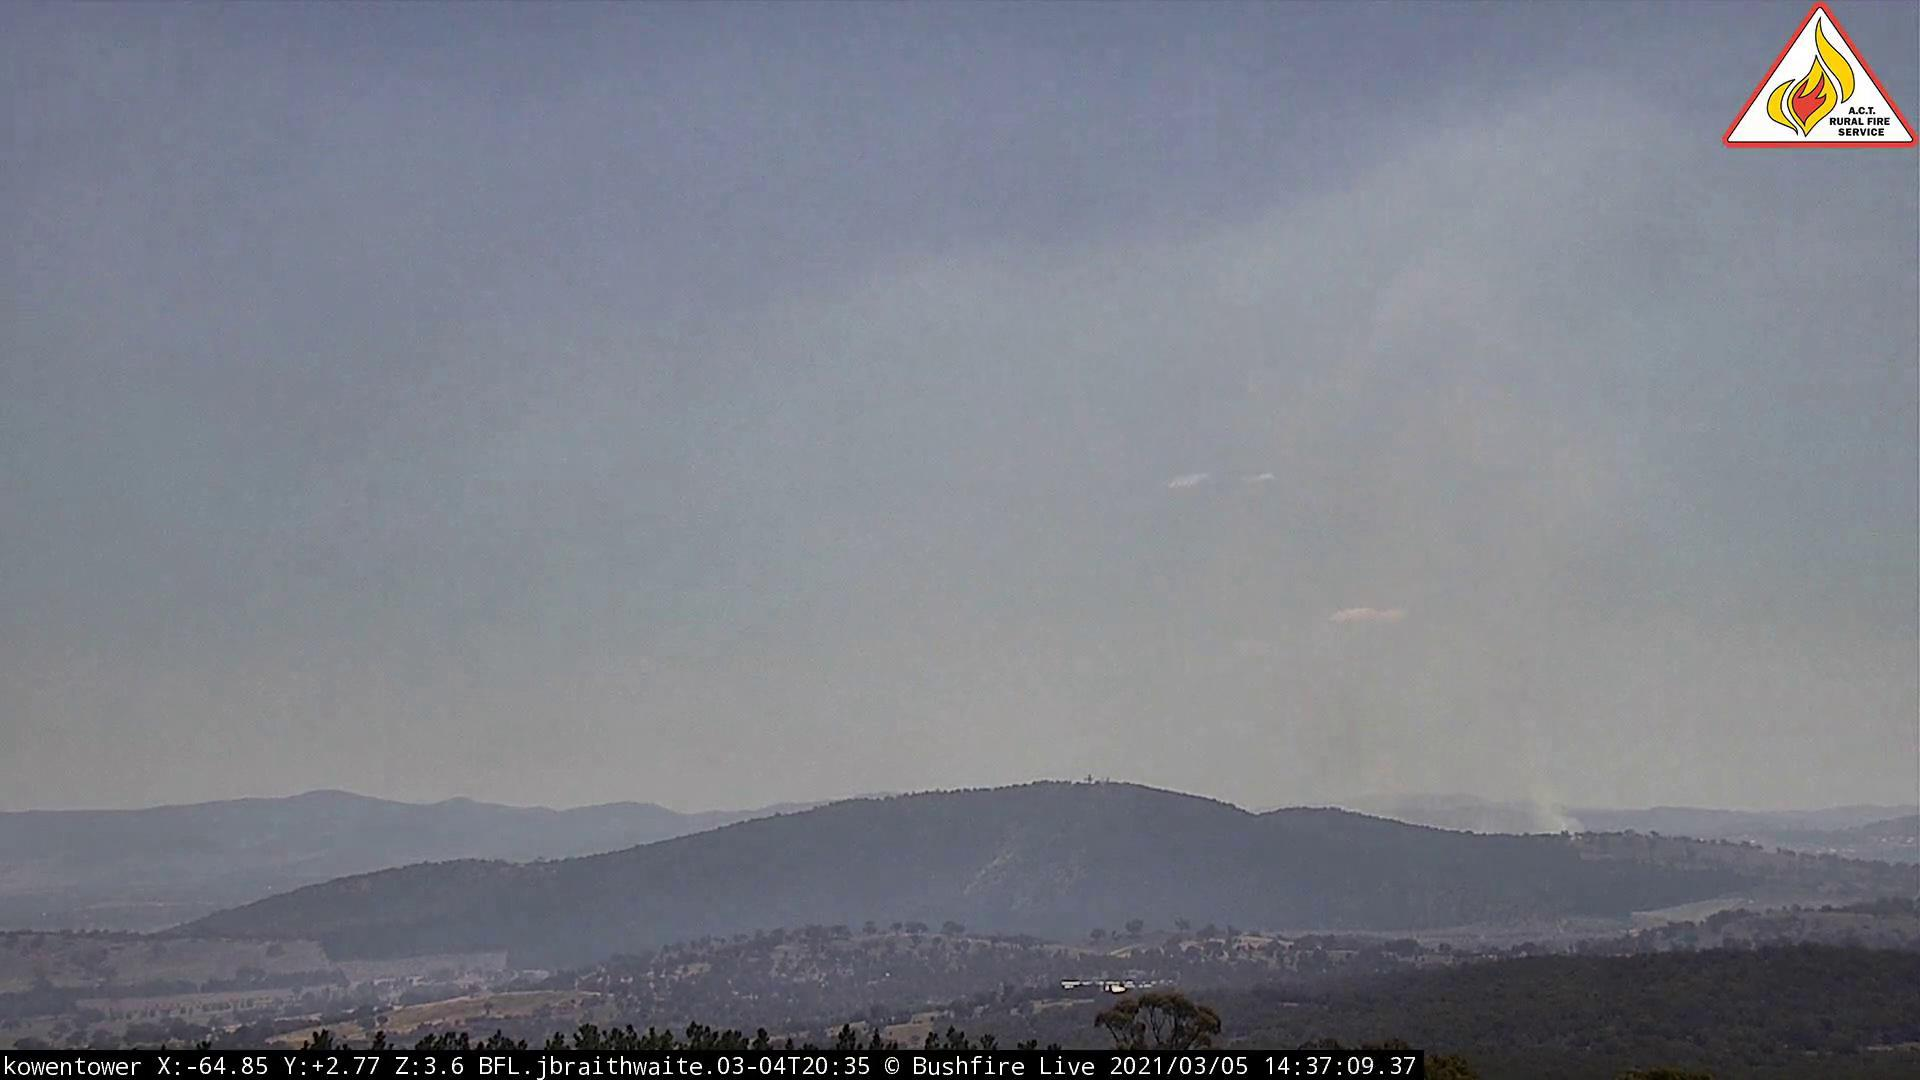Smoke: (1294, 398, 1598, 847)
